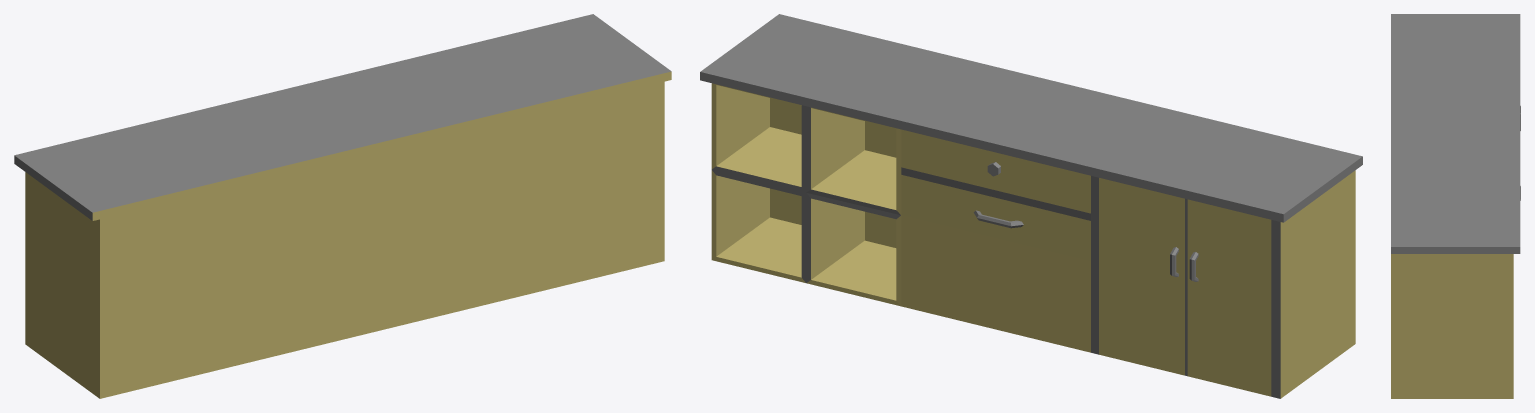
Rendered from kitchen_longcounter.fbx.
3 renders of one model, left to right at view 1: azimuth 30°, elevation 25°; view 2: azimuth 150°, elevation 25°; view 3: azimuth 270°, elevation 25°, orthographic. The views are drawn at different scales.
Parts seen in each view (by area): view 1: Sink; view 2: Sink; view 3: Sink.
Part boxes in pixels (x1=…): Sink: x1=14, y1=14, x2=671, y2=398; Sink: x1=700, y1=14, x2=1362, y2=398; Sink: x1=1391, y1=14, x2=1520, y2=398.
Bounding box in the file's own units: 969 × 300 × 228.
